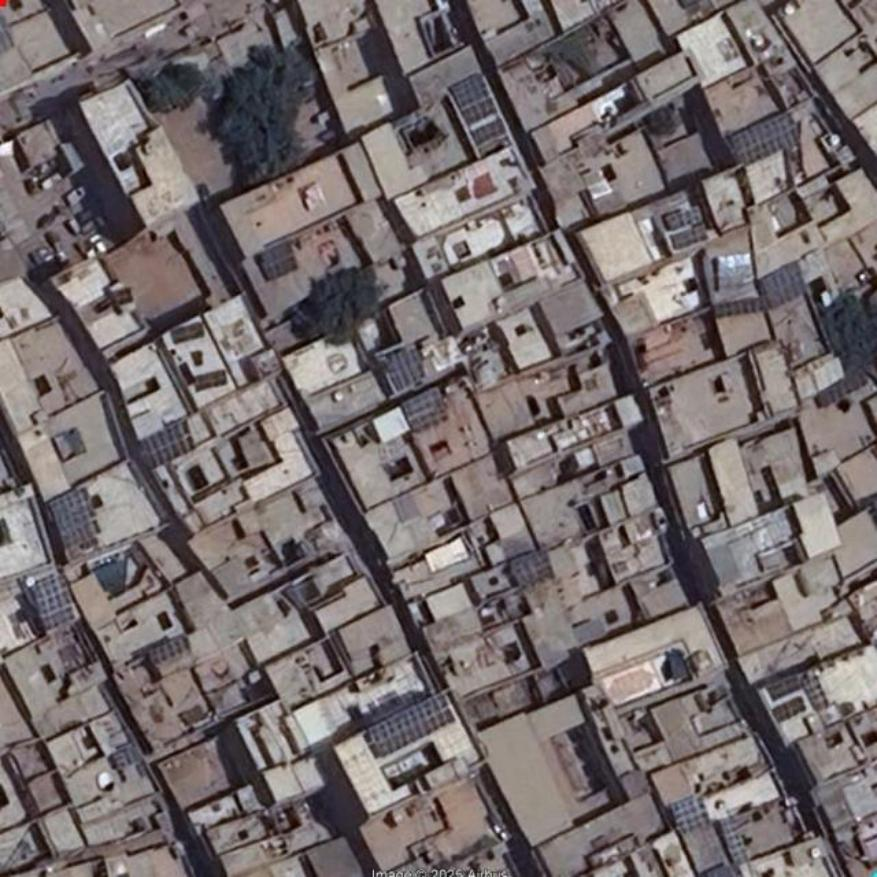Solarpanel: (370, 696, 451, 756), (449, 74, 505, 144), (731, 116, 797, 167), (141, 419, 198, 468), (50, 490, 97, 548), (32, 571, 74, 628), (381, 346, 426, 392), (759, 263, 805, 306), (257, 239, 299, 281), (405, 385, 444, 430), (721, 819, 749, 865), (671, 797, 707, 832), (149, 635, 188, 663), (765, 674, 804, 698), (664, 207, 701, 230), (713, 299, 759, 317), (672, 223, 704, 247), (771, 698, 803, 721), (194, 369, 225, 391), (171, 323, 202, 341)
